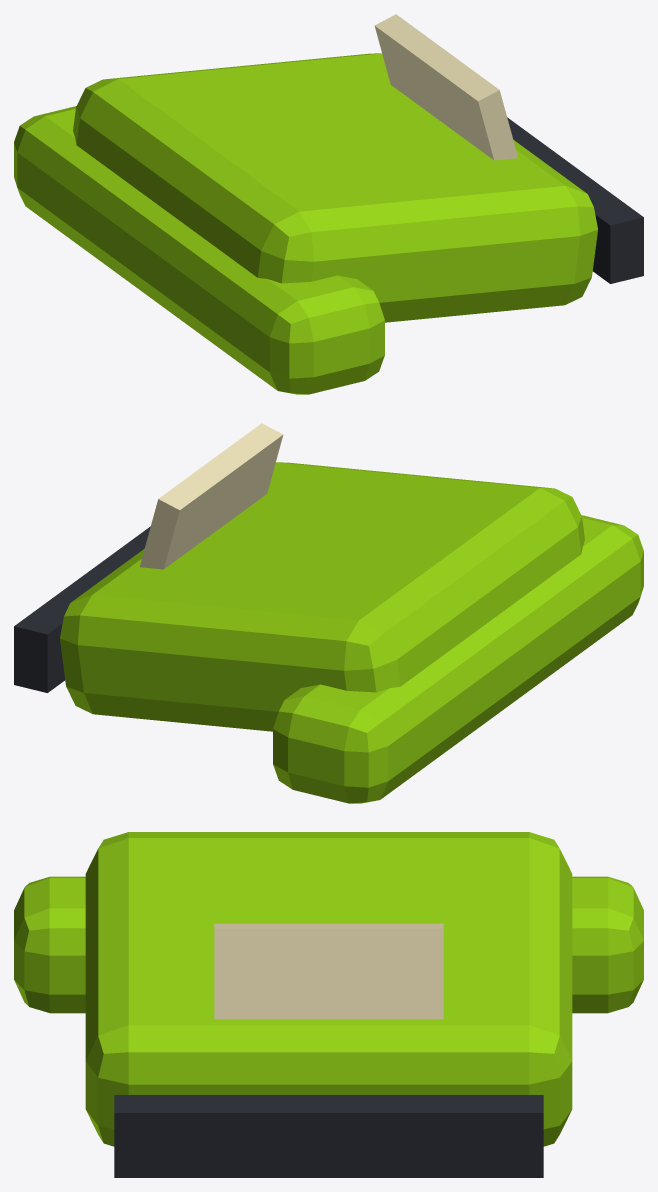
The model's file is nose.obj.
3 renders of one model, top to bottom at view 1: azimuth 30°, elevation 25°; view 2: azimuth 150°, elevation 25°; view 3: azimuth 270°, elevation 25°, orthographic. The views are drawn at different scales.
Parts seen in each view (by area): view 1: Cube; view 2: Cube; view 3: Cube.
Boxes of the visible parts, <box> form: Cube: <box>14,14,643,394</box>; Cube: <box>14,423,643,803</box>; Cube: <box>14,832,643,1177</box>.
Bounding box in the file's own units: 0.36 × 0.1621 × 0.44.
